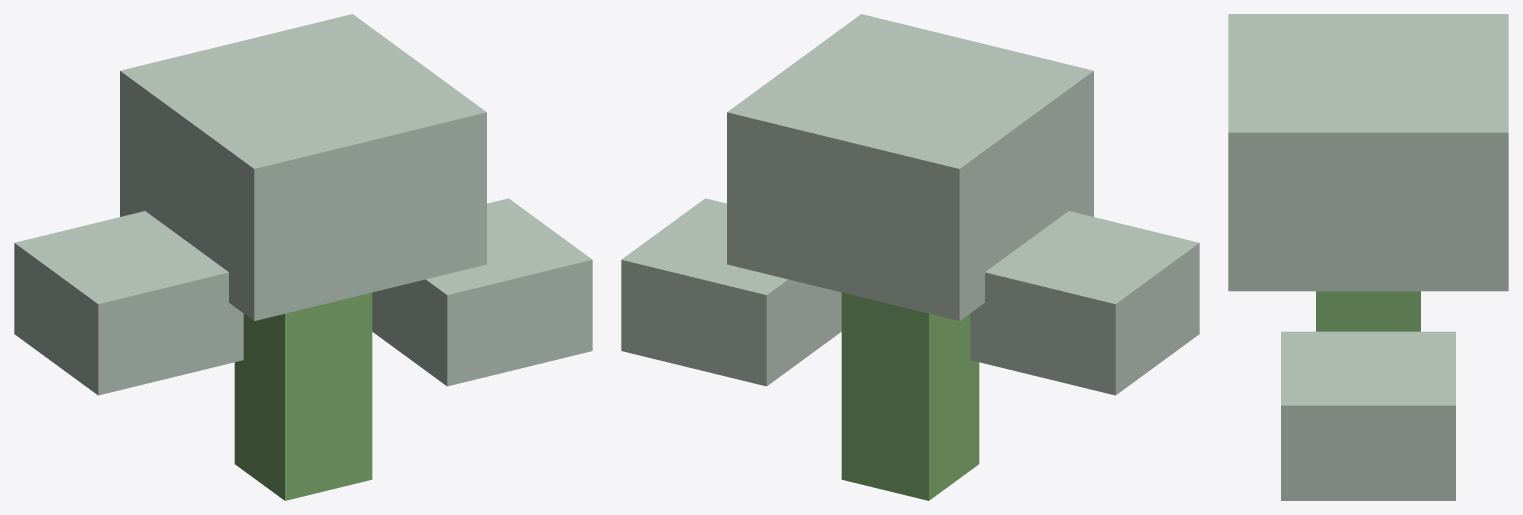
Rendered from Prop_DS_Herb_ArchiveSage_S1_V1.glb.
3 renders of one model, left to right at view 1: azimuth 30°, elevation 25°; view 2: azimuth 150°, elevation 25°; view 3: azimuth 270°, elevation 25°, orthographic. The views are drawn at different scales.
Visible parts, largest first — view 1: Cube.003, Cube.002, Cube.001, Cube; view 2: Cube.003, Cube.002, Cube.001, Cube; view 3: Cube.003, Cube.001, Cube.
Boxes of the visible parts, x1,y1,x2,y2 form: Cube.003: [120, 14, 486, 320]; Cube.002: [14, 211, 243, 395]; Cube.001: [372, 198, 592, 386]; Cube: [234, 292, 372, 500]; Cube.003: [727, 14, 1093, 320]; Cube.002: [970, 211, 1199, 395]; Cube.001: [621, 198, 841, 386]; Cube: [841, 292, 979, 500]; Cube.003: [1228, 14, 1508, 291]; Cube.001: [1281, 331, 1455, 500]; Cube: [1316, 291, 1420, 331].
Bounding box in the file's own units: 0.34 × 0.25 × 0.16.
